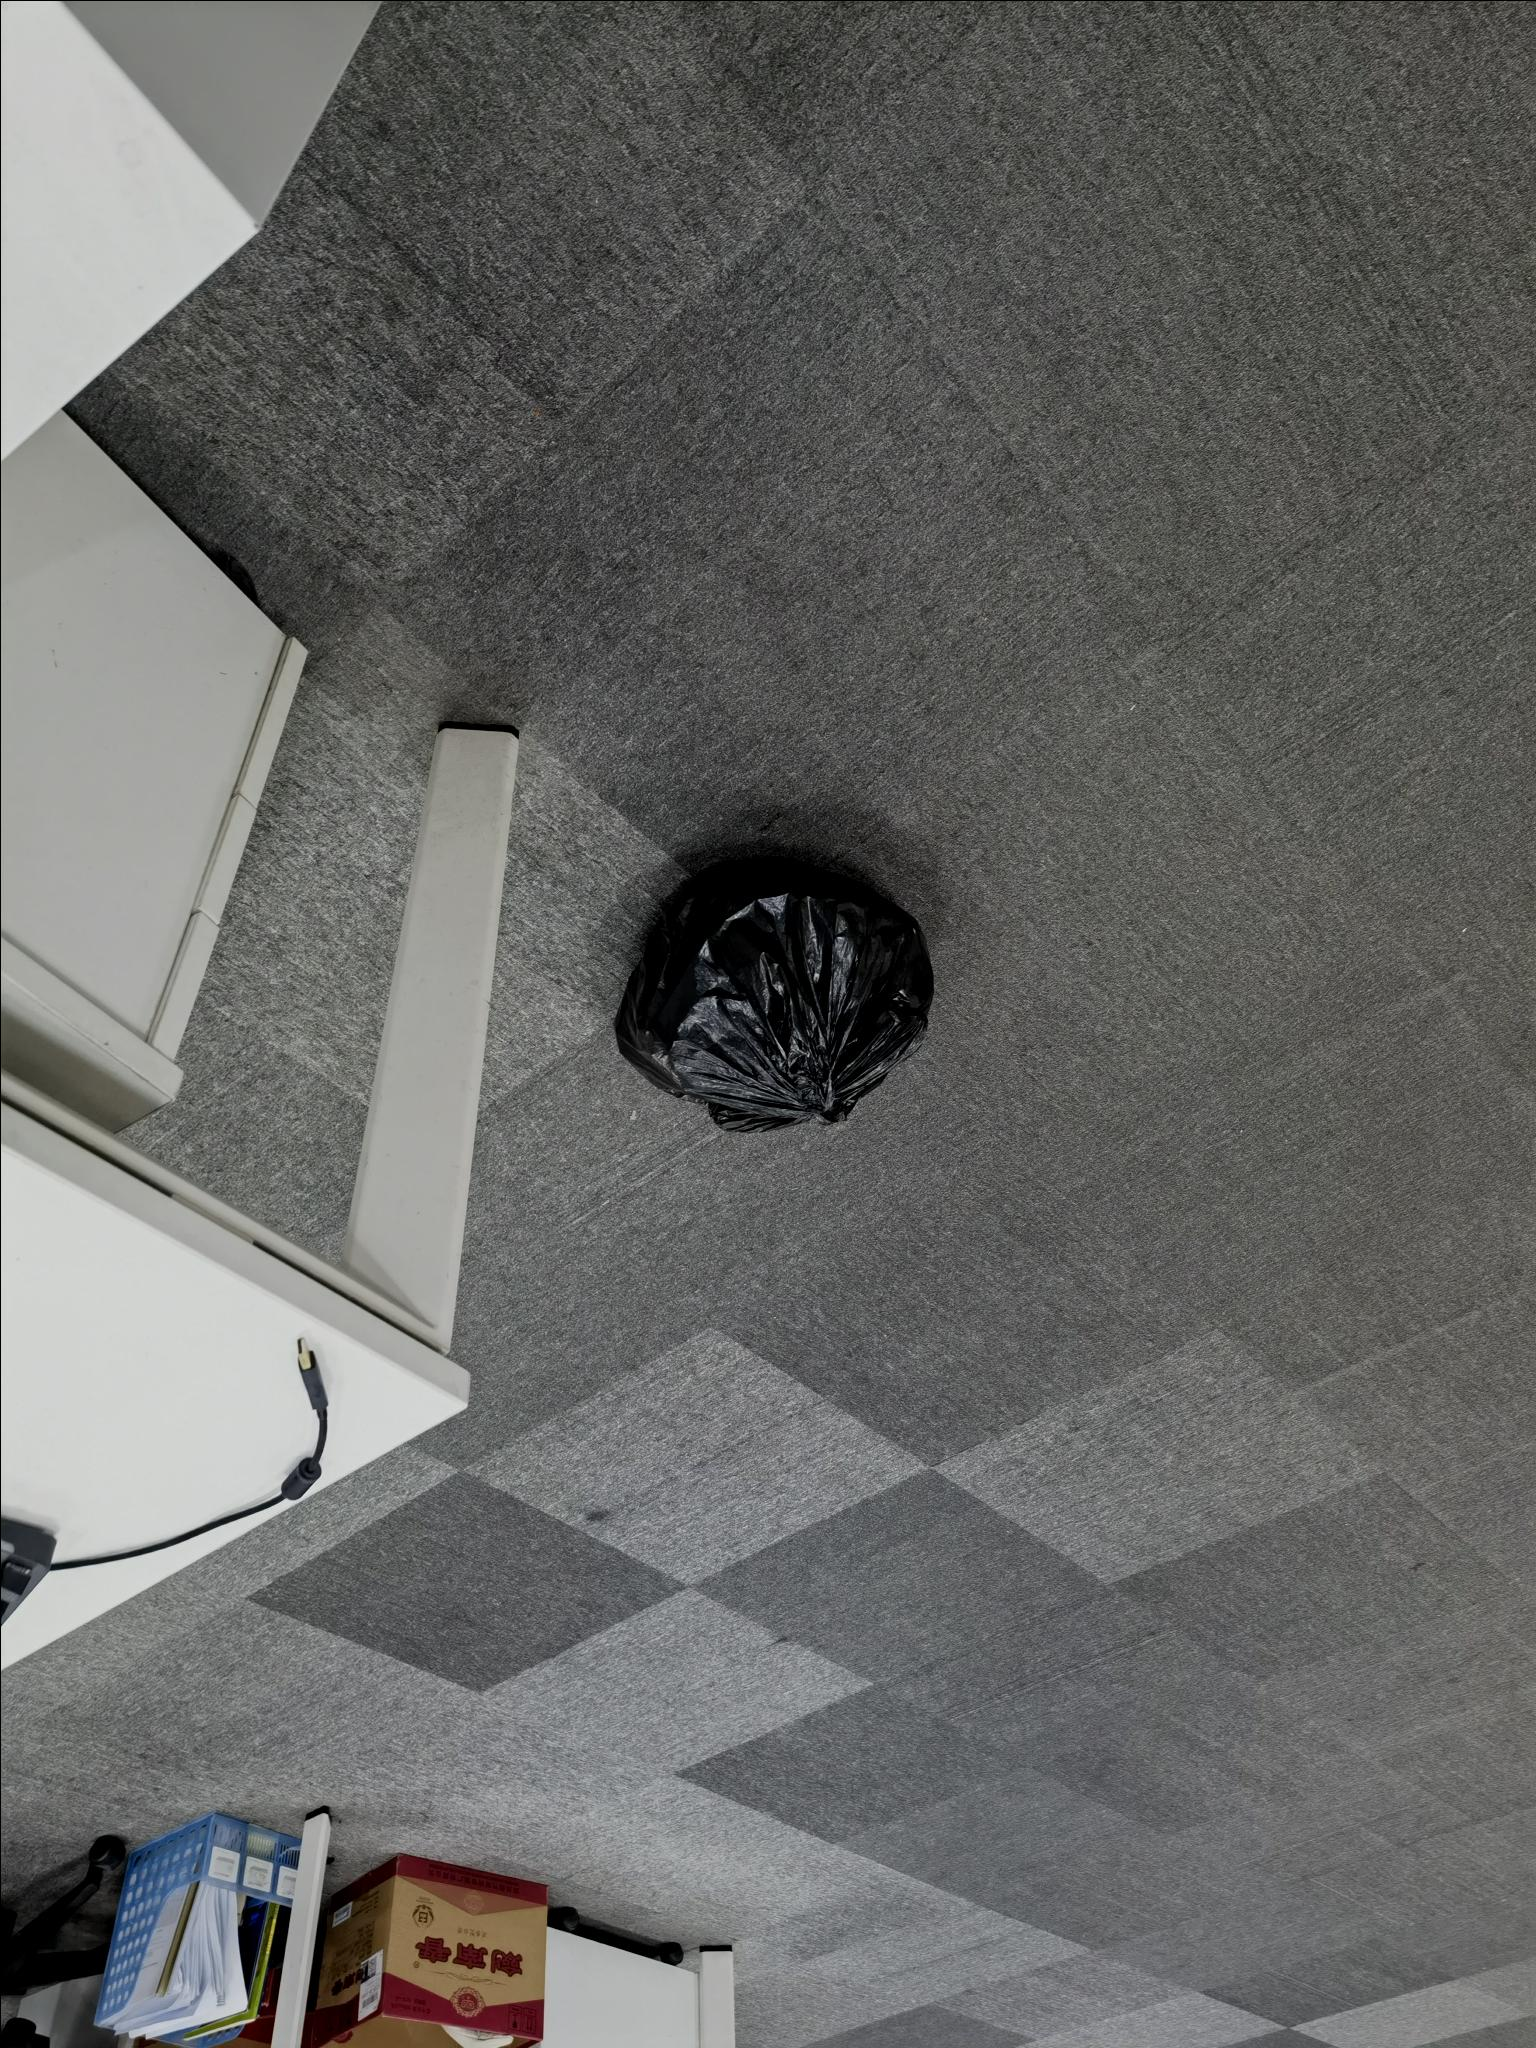black_bag: (611, 851, 934, 1134)
